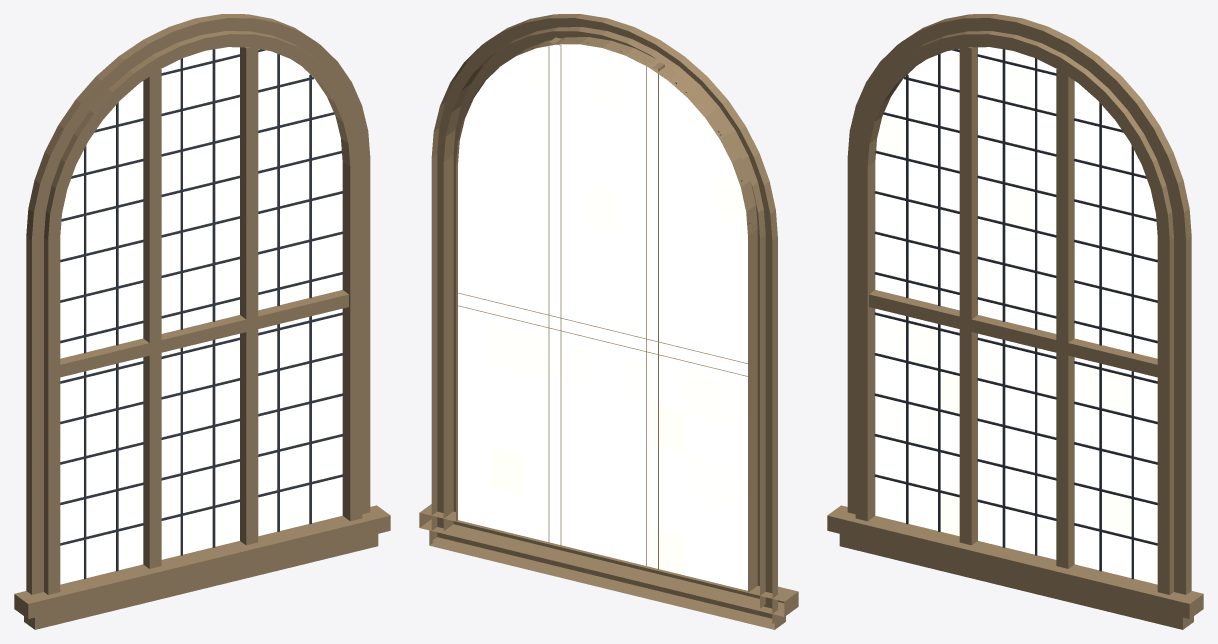
The model's file is window_2_4x4.glb.
3 views of the same model, side by side, from view 1: azimuth 30°, elevation 25°; view 2: azimuth 150°, elevation 25°; view 3: azimuth 330°, elevation 25° (orthographic).
Parts seen in each view (by area): view 1: window_2_4x4; view 2: window_2_4x4; view 3: window_2_4x4.
Part boxes in pixels (<box>): window_2_4x4: <box>14,14,390,629</box>; window_2_4x4: <box>419,14,798,629</box>; window_2_4x4: <box>827,14,1203,629</box>.
Bounding box in the file's own units: 3 × 4.44 × 0.2.
